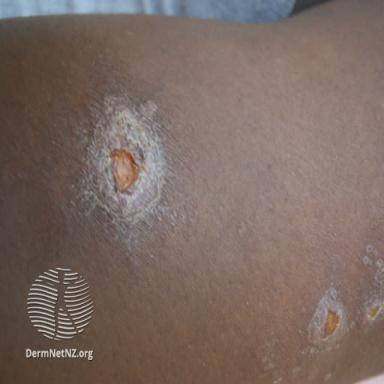Leishmanios: (83, 98, 167, 228), (307, 285, 346, 346), (365, 302, 384, 324)
